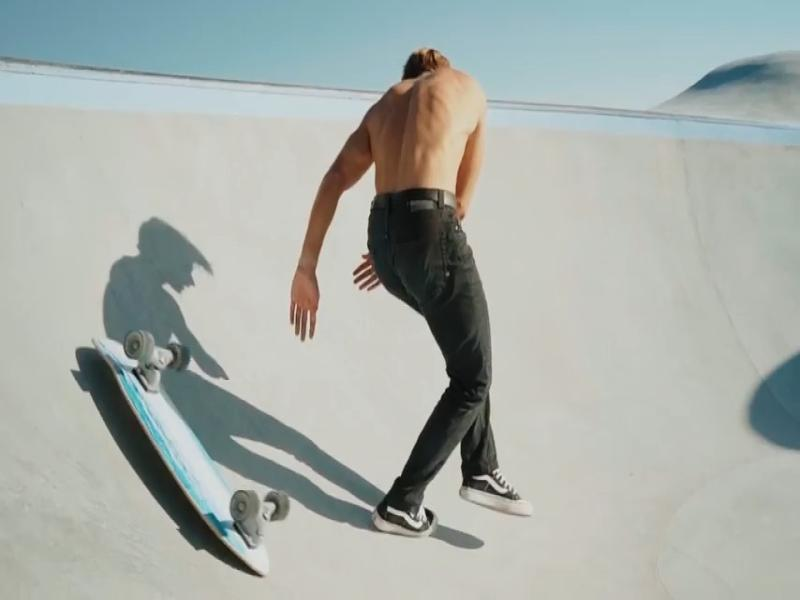person: (291, 48, 533, 538)
skate: (94, 340, 269, 574)
